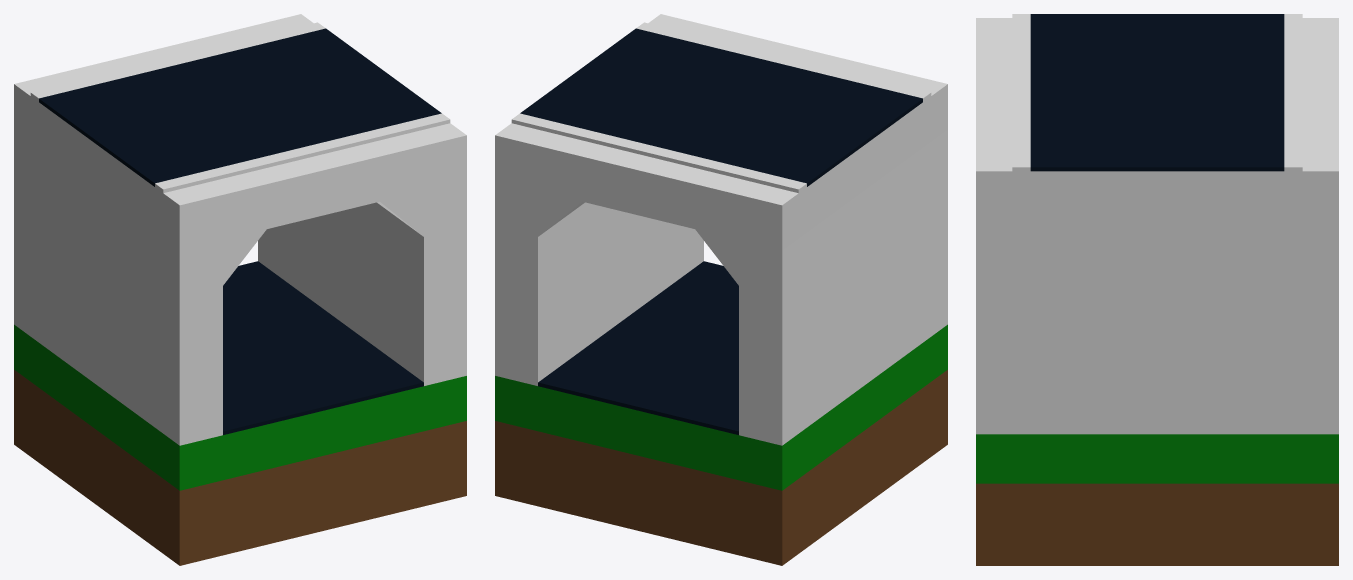
File: S_Road_Tunnel.fbx
The picture shows the model from 3 angles, left to right: view 1: azimuth 30°, elevation 25°; view 2: azimuth 150°, elevation 25°; view 3: azimuth 270°, elevation 25°; orthographic projection. The views are drawn at different scales.
Visible parts, largest first — view 1: Tunnel Base, Base.002, Pavement.006, Pavement.001; view 2: Tunnel Base, Base.002, Pavement.006, Pavement.001; view 3: Tunnel Base, Base.002, Pavement.006.
Boxes of the visible parts, bbox=[...] form: Tunnel Base: bbox=[14, 14, 466, 445]; Base.002: bbox=[14, 324, 466, 565]; Pavement.006: bbox=[30, 22, 450, 193]; Pavement.001: bbox=[223, 261, 423, 434]; Tunnel Base: bbox=[495, 14, 947, 445]; Base.002: bbox=[495, 324, 947, 565]; Pavement.006: bbox=[511, 22, 931, 193]; Pavement.001: bbox=[538, 261, 738, 434]; Tunnel Base: bbox=[976, 18, 1338, 434]; Base.002: bbox=[976, 434, 1338, 565]; Pavement.006: bbox=[1012, 14, 1302, 171].
Bounding box in the file's own units: 200 × 242 × 200.
